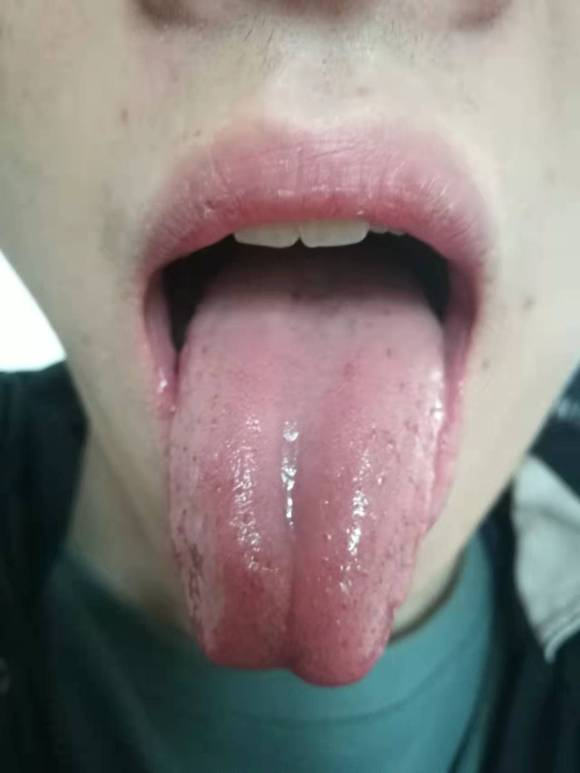baitaishe: (166, 237, 442, 688)
hongdianshe: (383, 345, 393, 360), (189, 452, 199, 465)
xinfeiao: (233, 643, 334, 691)
